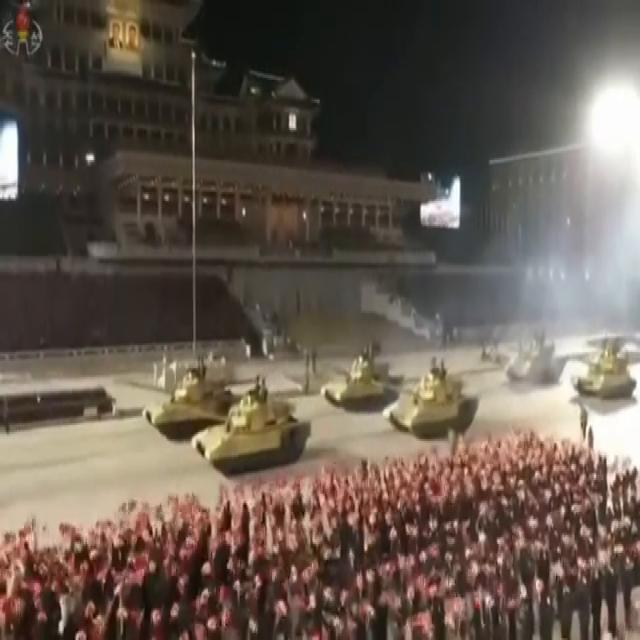north tank: (187, 369, 310, 469), (374, 367, 494, 448), (148, 362, 250, 453), (314, 351, 408, 418), (577, 340, 640, 417), (501, 331, 566, 388)
